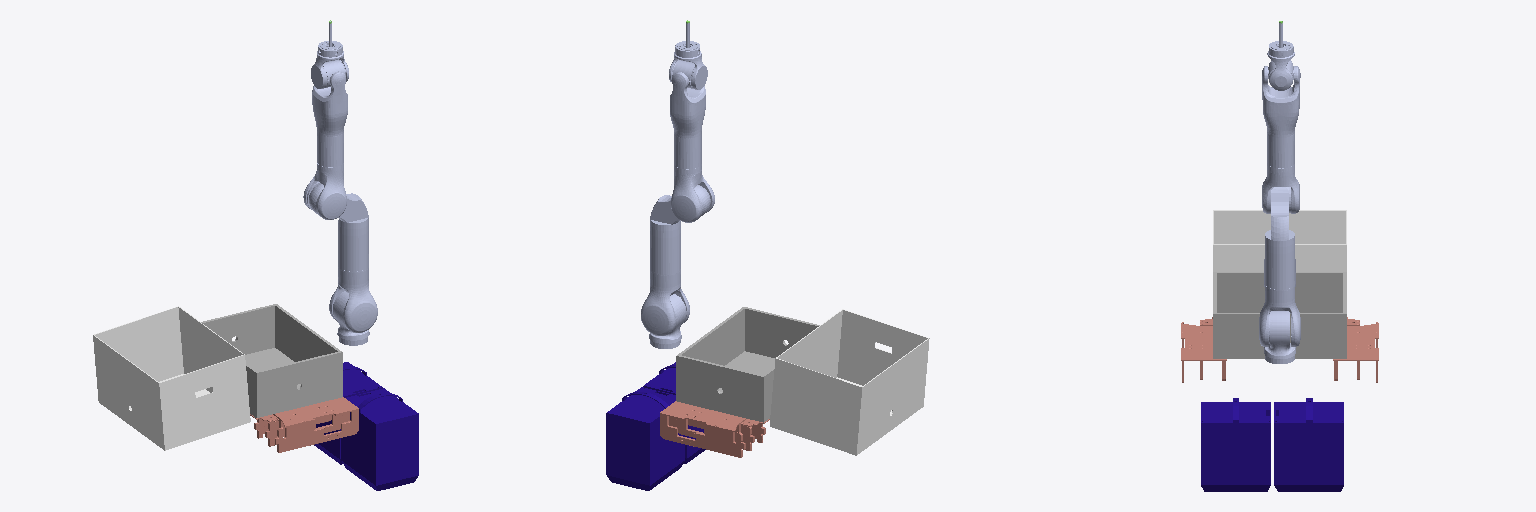
The robot description file, URDF, robot "E1-PRO_EVT2.0_V9_260714":
<?xml version="1.0" encoding="utf-8"?>
<!-- This URDF was automatically created by SolidWorks to URDF Exporter! Originally created by Stephen Brawner (brawner@gmail.com) 
     Commit Version: 1.6.0-4-g7f85cfe  Build Version: 1.6.7995.38578
     For more information, please see http://wiki.ros.org/sw_urdf_exporter -->
<robot
  name="E1-PRO_EVT2.0_V9_260714">
  <link
    name="base_link">
    <inertial>
      <origin
        xyz="-0.078128 -0.030482 0.38808"
        rpy="0 0 0" />
      <mass
        value="32.049" />
      <inertia
        ixx="1.1271"
        ixy="0.0019051"
        ixz="-0.001577"
        iyy="0.63017"
        iyz="0.00040475"
        izz="0.73273" />
    </inertial>
    <visual>
      <origin
        xyz="0 0 0"
        rpy="0 0 0" />
      <geometry>
        <mesh
          filename="package://E1-PRO_EVT2.0_V9_260714/meshes/base_link.STL" />
      </geometry>
      <material
        name="">
        <color
          rgba="0.48627 0.6549 0.55686 1" />
      </material>
    </visual>
    <collision>
      <origin
        xyz="0 0 0"
        rpy="0 0 0" />
      <geometry>
        <mesh
          filename="package://E1-PRO_EVT2.0_V9_260714/meshes/base_link.STL" />
      </geometry>
    </collision>
  </link>
  <link
    name="paltform_link">
    <inertial>
      <origin
        xyz="0.20827 -0.031009 0.27747"
        rpy="0 0 0" />
      <mass
        value="3.8818" />
      <inertia
        ixx="0.044311"
        ixy="-3.0252E-06"
        ixz="0.00025311"
        iyy="0.025099"
        iyz="-1.8932E-07"
        izz="0.066624" />
    </inertial>
    <visual>
      <origin
        xyz="0 0 0"
        rpy="0 0 0" />
      <geometry>
        <mesh
          filename="package://E1-PRO_EVT2.0_V9_260714/meshes/paltform_link.STL" />
      </geometry>
      <material
        name="">
        <color
          rgba="0.81961 0.56863 0.52549 1" />
      </material>
    </visual>
    <collision>
      <origin
        xyz="0 0 0"
        rpy="0 0 0" />
      <geometry>
        <mesh
          filename="package://E1-PRO_EVT2.0_V9_260714/meshes/paltform_link.STL" />
      </geometry>
    </collision>
  </link>
  <joint
    name="platform_joint"
    type="prismatic">
    <origin
      xyz="0 0 0"
      rpy="0 0 0" />
    <parent
      link="base_link" />
    <child
      link="paltform_link" />
    <axis
      xyz="0 0 1" />
    <limit
      lower="-0.1"
      upper="0.5"
      effort="0"
      velocity="0" />
  </joint>
  <link
    name="arm_base_link">
    <inertial>
      <origin
        xyz="-2.4233E-10 8.9488E-05 0.034349"
        rpy="0 0 0" />
      <mass
        value="0.59585" />
      <inertia
        ixx="0.00065407"
        ixy="2.6305E-11"
        ixz="-4.8472E-14"
        iyy="0.00065679"
        iyz="1.7428E-06"
        izz="0.00065081" />
    </inertial>
    <visual>
      <origin
        xyz="0 0 0"
        rpy="0 0 0" />
      <geometry>
        <mesh
          filename="package://E1-PRO_EVT2.0_V9_260714/meshes/arm_base_link.STL" />
      </geometry>
      <material
        name="">
        <color
          rgba="0.79216 0.81961 0.93333 1" />
      </material>
    </visual>
    <collision>
      <origin
        xyz="0 0 0"
        rpy="0 0 0" />
      <geometry>
        <mesh
          filename="package://E1-PRO_EVT2.0_V9_260714/meshes/arm_base_link.STL" />
      </geometry>
    </collision>
  </link>
  <joint
    name="arm_base_joint"
    type="fixed">
    <origin
      xyz="0.51352 -0.031 0.31"
      rpy="0 0 0" />
    <parent
      link="paltform_link" />
    <child
      link="arm_base_link" />
    <axis
      xyz="0 0 0" />
  </joint>
  <link
    name="Link1_L">
    <inertial>
      <origin
        xyz="-1.8545E-06 0.0016783 0.15066"
        rpy="0 0 0" />
      <mass
        value="0.81851" />
      <inertia
        ixx="0.0017226"
        ixy="1.4268E-08"
        ixz="-1.4275E-08"
        iyy="0.0020384"
        iyz="-3.2748E-05"
        izz="0.00088868" />
    </inertial>
    <visual>
      <origin
        xyz="0 0 0"
        rpy="0 0 0" />
      <geometry>
        <mesh
          filename="package://E1-PRO_EVT2.0_V9_260714/meshes/Link1_L.STL" />
      </geometry>
      <material
        name="">
        <color
          rgba="0.79216 0.81961 0.93333 1" />
      </material>
    </visual>
    <collision>
      <origin
        xyz="0 0 0"
        rpy="0 0 0" />
      <geometry>
        <mesh
          filename="package://E1-PRO_EVT2.0_V9_260714/meshes/Link1_L.STL" />
      </geometry>
    </collision>
  </link>
  <joint
    name="Joint1_J"
    type="revolute">
    <origin
      xyz="0 0 0"
      rpy="0 0 0" />
    <parent
      link="arm_base_link" />
    <child
      link="Link1_L" />
    <axis
      xyz="0 0 1" />
    <limit
      lower="-2.9671"
      upper="2.9671"
      effort="0"
      velocity="0" />
  </joint>
  <link
    name="Link2_L">
    <inertial>
      <origin
        xyz="-1.4456E-07 -0.0015137 0.047716"
        rpy="0 0 0" />
      <mass
        value="1.1465" />
      <inertia
        ixx="0.0054128"
        ixy="8.1654E-08"
        ixz="-2.3374E-08"
        iyy="0.0045323"
        iyz="-8.2729E-05"
        izz="0.002352" />
    </inertial>
    <visual>
      <origin
        xyz="0 0 0"
        rpy="0 0 0" />
      <geometry>
        <mesh
          filename="package://E1-PRO_EVT2.0_V9_260714/meshes/Link2_L.STL" />
      </geometry>
      <material
        name="">
        <color
          rgba="0.79216 0.81961 0.93333 1" />
      </material>
    </visual>
    <collision>
      <origin
        xyz="0 0 0"
        rpy="0 0 0" />
      <geometry>
        <mesh
          filename="package://E1-PRO_EVT2.0_V9_260714/meshes/Link2_L.STL" />
      </geometry>
    </collision>
  </link>
  <joint
    name="Joint2_J"
    type="revolute">
    <origin
      xyz="0 0 0.1745"
      rpy="0 0 0" />
    <parent
      link="Link1_L" />
    <child
      link="Link2_L" />
    <axis
      xyz="0 1 0" />
    <limit
      lower="-2.0944"
      upper="2.0944"
      effort="0"
      velocity="0" />
  </joint>
  <link
    name="Link3_L">
    <inertial>
      <origin
        xyz="-0.023535 2.5028E-07 0.1338"
        rpy="0 0 0" />
      <mass
        value="1.859" />
      <inertia
        ixx="0.012962"
        ixy="-4.4589E-08"
        ixz="0.0044136"
        iyy="0.016023"
        iyz="3.9752E-08"
        izz="0.0045949" />
    </inertial>
    <visual>
      <origin
        xyz="0 0 0"
        rpy="0 0 0" />
      <geometry>
        <mesh
          filename="package://E1-PRO_EVT2.0_V9_260714/meshes/Link3_L.STL" />
      </geometry>
      <material
        name="">
        <color
          rgba="0.79216 0.81961 0.93333 1" />
      </material>
    </visual>
    <collision>
      <origin
        xyz="0 0 0"
        rpy="0 0 0" />
      <geometry>
        <mesh
          filename="package://E1-PRO_EVT2.0_V9_260714/meshes/Link3_L.STL" />
      </geometry>
    </collision>
  </link>
  <joint
    name="Joint3_J"
    type="revolute">
    <origin
      xyz="0 0 0.1485"
      rpy="0 0 0" />
    <parent
      link="Link2_L" />
    <child
      link="Link3_L" />
    <axis
      xyz="0 0 1" />
    <limit
      lower="-2.9671"
      upper="2.9671"
      effort="0"
      velocity="0" />
  </joint>
  <link
    name="Link4_L">
    <inertial>
      <origin
        xyz="0.0077613 0.0048207 0.037399"
        rpy="0 0 0" />
      <mass
        value="0.80083" />
      <inertia
        ixx="0.0027058"
        ixy="9.7745E-06"
        ixz="-0.00028207"
        iyy="0.0022185"
        iyz="4.7057E-05"
        izz="0.0014374" />
    </inertial>
    <visual>
      <origin
        xyz="0 0 0"
        rpy="0 0 0" />
      <geometry>
        <mesh
          filename="package://E1-PRO_EVT2.0_V9_260714/meshes/Link4_L.STL" />
      </geometry>
      <material
        name="">
        <color
          rgba="0.79216 0.81961 0.93333 1" />
      </material>
    </visual>
    <collision>
      <origin
        xyz="0 0 0"
        rpy="0 0 0" />
      <geometry>
        <mesh
          filename="package://E1-PRO_EVT2.0_V9_260714/meshes/Link4_L.STL" />
      </geometry>
    </collision>
  </link>
  <joint
    name="Joint4_J"
    type="revolute">
    <origin
      xyz="-0.096769 0 0.23962"
      rpy="0 0 0" />
    <parent
      link="Link3_L" />
    <child
      link="Link4_L" />
    <axis
      xyz="0 1 0" />
    <limit
      lower="-2.6180"
      upper="3.1415"
      effort="0"
      velocity="0" />
  </joint>
  <link
    name="Link5_L">
    <inertial>
      <origin
        xyz="-6.78E-07 3.2217E-05 0.13822"
        rpy="0 0 0" />
      <mass
        value="1.6879" />
      <inertia
        ixx="0.011022"
        ixy="5.6855E-08"
        ixz="-3.3182E-07"
        iyy="0.010501"
        iyz="-8.1575E-06"
        izz="0.0020745" />
    </inertial>
    <visual>
      <origin
        xyz="0 0 0"
        rpy="0 0 0" />
      <geometry>
        <mesh
          filename="package://E1-PRO_EVT2.0_V9_260714/meshes/Link5_L.STL" />
      </geometry>
      <material
        name="">
        <color
          rgba="0.79216 0.81961 0.93333 1" />
      </material>
    </visual>
    <collision>
      <origin
        xyz="0 0 0"
        rpy="0 0 0" />
      <geometry>
        <mesh
          filename="package://E1-PRO_EVT2.0_V9_260714/meshes/Link5_L.STL" />
      </geometry>
    </collision>
  </link>
  <joint
    name="Joint5_J"
    type="revolute">
    <origin
      xyz="0.018 0.00325 0.1215"
      rpy="0 0 0" />
    <parent
      link="Link4_L" />
    <child
      link="Link5_L" />
    <axis
      xyz="0 0 1" />
    <limit
      lower="-2.9671"
      upper="2.9671"
      effort="0"
      velocity="0" />
  </joint>
  <link
    name="Link6_L">
    <inertial>
      <origin
        xyz="0.004049 3.3359E-08 -1.2591E-07"
        rpy="0 0 0" />
      <mass
        value="0.28617" />
      <inertia
        ixx="0.00021745"
        ixy="3.4379E-11"
        ixz="6.5972E-10"
        iyy="0.00018866"
        iyz="3.9715E-10"
        izz="0.00020199" />
    </inertial>
    <visual>
      <origin
        xyz="0 0 0"
        rpy="0 0 0" />
      <geometry>
        <mesh
          filename="package://E1-PRO_EVT2.0_V9_260714/meshes/Link6_L.STL" />
      </geometry>
      <material
        name="">
        <color
          rgba="0.79216 0.81961 0.93333 1" />
      </material>
    </visual>
    <collision>
      <origin
        xyz="0 0 0"
        rpy="0 0 0" />
      <geometry>
        <mesh
          filename="package://E1-PRO_EVT2.0_V9_260714/meshes/Link6_L.STL" />
      </geometry>
    </collision>
  </link>
  <joint
    name="Joint6_J"
    type="revolute">
    <origin
      xyz="0 0 0.2925"
      rpy="0 0 0" />
    <parent
      link="Link5_L" />
    <child
      link="Link6_L" />
    <axis
      xyz="0 1 0" />
    <limit
      lower="-1.0472"
      upper="1.0472"
      effort="0"
      velocity="0" />
  </joint>
  <link
    name="Link7_L">
    <inertial>
      <origin
        xyz="-0.0031171 7.5484E-05 0.040026"
        rpy="0 0 0" />
      <mass
        value="0.33604" />
      <inertia
        ixx="0.00068247"
        ixy="-6.7262E-08"
        ixz="-4.078E-05"
        iyy="0.00089842"
        iyz="-1.0527E-06"
        izz="0.0004406" />
    </inertial>
    <visual>
      <origin
        xyz="0 0 0"
        rpy="0 0 0" />
      <geometry>
        <mesh
          filename="package://E1-PRO_EVT2.0_V9_260714/meshes/Link7_L.STL" />
      </geometry>
      <material
        name="">
        <color
          rgba="0.79216 0.81961 0.93333 1" />
      </material>
    </visual>
    <collision>
      <origin
        xyz="0 0 0"
        rpy="0 0 0" />
      <geometry>
        <mesh
          filename="package://E1-PRO_EVT2.0_V9_260714/meshes/Link7_L.STL" />
      </geometry>
    </collision>
  </link>
  <joint
    name="Joint7_J"
    type="revolute">
    <origin
      xyz="0 0 0"
      rpy="0 0 0" />
    <parent
      link="Link6_L" />
    <child
      link="Link7_L" />
    <axis
      xyz="1 0 0" />
    <limit
      lower="-1.570796"
      upper="1.570796"
      effort="0"
      velocity="0" />
  </joint>
  <link
    name="zhijian_link">
    <inertial>
      <origin
        xyz="-1.1102E-16 -2.7756E-17 0.00064558"
        rpy="0 0 0" />
      <mass
        value="0.00036655" />
      <inertia
        ixx="3.9905E-09"
        ixy="1.0681E-24"
        ixz="2.9337E-25"
        iyy="3.9905E-09"
        iyz="-6.4703E-25"
        izz="6.4361E-09" />
    </inertial>
    <visual>
      <origin
        xyz="0 0 0"
        rpy="0 0 0" />
      <geometry>
        <mesh
          filename="package://E1-PRO_EVT2.0_V9_260714/meshes/zhijian_link.STL" />
      </geometry>
      <material
        name="">
        <color
          rgba="0.61569 0.94118 0.49412 1" />
      </material>
    </visual>
    <collision>
      <origin
        xyz="0 0 0"
        rpy="0 0 0" />
      <geometry>
        <mesh
          filename="package://E1-PRO_EVT2.0_V9_260714/meshes/zhijian_link.STL" />
      </geometry>
    </collision>
  </link>
  <joint
    name="zhijian_joint"
    type="fixed">
    <origin
      xyz="0 0 0.17167"
      rpy="0 0 0" />
    <parent
      link="Link7_L" />
    <child
      link="zhijian_link" />
    <axis
      xyz="0 0 0" />
  </joint>
  <link
    name="box01_link">
    <inertial>
      <origin
        xyz="0.066347 2.1039E-14 0.050967"
        rpy="0 0 0" />
      <mass
        value="24.317" />
      <inertia
        ixx="0.532"
        ixy="-1.6722E-17"
        ixz="2.0561E-17"
        iyy="0.35276"
        iyz="-1.8561E-16"
        izz="0.77081" />
    </inertial>
    <visual>
      <origin
        xyz="0 0 0"
        rpy="0 0 0" />
      <geometry>
        <mesh
          filename="package://E1-PRO_EVT2.0_V9_260714/meshes/box01_link.STL" />
      </geometry>
      <material
        name="">
        <color
          rgba="0.75294 0.75294 0.75294 1" />
      </material>
    </visual>
    <collision>
      <origin
        xyz="0 0 0"
        rpy="0 0 0" />
      <geometry>
        <mesh
          filename="package://E1-PRO_EVT2.0_V9_260714/meshes/box01_link.STL" />
      </geometry>
    </collision>
  </link>
  <joint
    name="box01_joint"
    type="prismatic">
    <origin
      xyz="0.14402 -0.031 0.31"
      rpy="0 0 0" />
    <parent
      link="paltform_link" />
    <child
      link="box01_link" />
    <axis
      xyz="0 1 0" />
    <limit
      lower="-0.9"
      upper="0.9"
      effort="0"
      velocity="0" />
  </joint>
  <link
    name="left_dianchi_link">
    <inertial>
      <origin
        xyz="1.1315E-09 0.00062273 -0.14093"
        rpy="0 0 0" />
      <mass
        value="55.685" />
      <inertia
        ixx="0.4411"
        ixy="1.3E-11"
        ixz="2.359E-10"
        iyy="0.34283"
        iyz="0.0020666"
        izz="0.30662" />
    </inertial>
    <visual>
      <origin
        xyz="0 0 0"
        rpy="0 0 0" />
      <geometry>
        <mesh
          filename="package://E1-PRO_EVT2.0_V9_260714/meshes/left_dianchi_link.STL" />
      </geometry>
      <material
        name="">
        <color
          rgba="0.2 0.10196 0.62353 1" />
      </material>
    </visual>
    <collision>
      <origin
        xyz="0 0 0"
        rpy="0 0 0" />
      <geometry>
        <mesh
          filename="package://E1-PRO_EVT2.0_V9_260714/meshes/left_dianchi_link.STL" />
      </geometry>
    </collision>
  </link>
  <joint
    name="left_dainchi_joint"
    type="prismatic">
    <origin
      xyz="0.52987 0.057 0.24116"
      rpy="0 0 0" />
    <parent
      link="base_link" />
    <child
      link="left_dianchi_link" />
    <axis
      xyz="0 0 1" />
    <limit
      lower="0"
      upper="0.5"
      effort="0"
      velocity="0" />
  </joint>
  <link
    name="right_dianchi_link">
    <inertial>
      <origin
        xyz="1.2007E-09 -0.22062 -0.14093"
        rpy="0 0 0" />
      <mass
        value="55.685" />
      <inertia
        ixx="0.4411"
        ixy="1.3E-11"
        ixz="-2.359E-10"
        iyy="0.34283"
        iyz="-0.0020666"
        izz="0.30662" />
    </inertial>
    <visual>
      <origin
        xyz="0 0 0"
        rpy="0 0 0" />
      <geometry>
        <mesh
          filename="package://E1-PRO_EVT2.0_V9_260714/meshes/right_dianchi_link.STL" />
      </geometry>
      <material
        name="">
        <color
          rgba="0.2 0.10196 0.62353 1" />
      </material>
    </visual>
    <collision>
      <origin
        xyz="0 0 0"
        rpy="0 0 0" />
      <geometry>
        <mesh
          filename="package://E1-PRO_EVT2.0_V9_260714/meshes/right_dianchi_link.STL" />
      </geometry>
    </collision>
  </link>
  <joint
    name="right_dianchi_joint"
    type="prismatic">
    <origin
      xyz="0.52987 0.057 0.24116"
      rpy="0 0 0" />
    <parent
      link="base_link" />
    <child
      link="right_dianchi_link" />
    <axis
      xyz="0 0 1" />
    <limit
      lower="0"
      upper="0.5"
      effort="0"
      velocity="0" />
  </joint>
  <link
    name="boxs02_link">
    <inertial>
      <origin
        xyz="0 0 0"
        rpy="0 0 0" />
      <mass
        value="0" />
      <inertia
        ixx="0"
        ixy="0"
        ixz="0"
        iyy="0"
        iyz="0"
        izz="0" />
    </inertial>
    <visual>
      <origin
        xyz="0 0 0"
        rpy="0 0 0" />
      <geometry>
        <mesh
          filename="package://E1-PRO_EVT2.0_V9_260714/meshes/boxs02_link.STL" />
      </geometry>
      <material
        name="">
        <color
          rgba="1 1 1 1" />
      </material>
    </visual>
    <collision>
      <origin
        xyz="0 0 0"
        rpy="0 0 0" />
      <geometry>
        <mesh
          filename="package://E1-PRO_EVT2.0_V9_260714/meshes/boxs02_link.STL" />
      </geometry>
    </collision>
  </link>
  <joint
    name="boxs02_joint"
    type="prismatic">
    <origin
      xyz="0.034965 -0.031 0.36351"
      rpy="0 0 0" />
    <parent
      link="base_link" />
    <child
      link="boxs02_link" />
    <axis
      xyz="0.99619 0 0.087156" />
    <limit
      lower="0"
      upper="0.8"
      effort="-0.5"
      velocity="0" />
  </joint>
</robot>

--- Facts derived from the render (not from the file) ---
The picture shows the robot from 3 angles, left to right: view 1: azimuth 30°, elevation 25°; view 2: azimuth 150°, elevation 25°; view 3: azimuth 270°, elevation 25°; orthographic projection.
Model E1-PRO_EVT2.0_V9_260714 with 15 links and 14 joints (7 revolute, 5 prismatic, 2 fixed), rooted at base_link, posed every joint at zero.
Links seen in each view (by area): view 1: boxs02_link, box01_link, right_dianchi_link, paltform_link, Link5_L, Link3_L, Link2_L, Link4_L, left_dianchi_link, Link7_L, Link1_L; view 2: boxs02_link, box01_link, left_dianchi_link, paltform_link, Link5_L, Link3_L, Link2_L, Link4_L, Link7_L, right_dianchi_link, Link1_L; view 3: box01_link, boxs02_link, left_dianchi_link, right_dianchi_link, paltform_link, Link5_L, Link3_L, Link2_L, Link1_L, Link4_L, Link7_L.
Link boxes in pixels (x1,y1,x2,y2): boxs02_link: (93, 306, 250, 450); box01_link: (201, 304, 342, 417); right_dianchi_link: (341, 388, 418, 490); paltform_link: (250, 397, 358, 452); Link5_L: (312, 71, 347, 166); Link3_L: (309, 184, 368, 271); Link2_L: (329, 267, 377, 332); Link4_L: (303, 163, 346, 219); left_dianchi_link: (314, 362, 382, 464); Link7_L: (311, 21, 348, 88); Link1_L: (333, 291, 369, 345); boxs02_link: (770, 309, 929, 455); box01_link: (676, 307, 819, 422); left_dianchi_link: (606, 387, 684, 490); paltform_link: (660, 401, 769, 457); Link5_L: (670, 72, 705, 168); Link3_L: (650, 185, 710, 273); Link2_L: (641, 269, 689, 335); Link4_L: (671, 164, 714, 222); Link7_L: (669, 23, 707, 89); right_dianchi_link: (643, 362, 705, 463); Link1_L: (649, 294, 686, 348); box01_link: (1213, 272, 1346, 358); boxs02_link: (1213, 210, 1346, 271); left_dianchi_link: (1274, 398, 1343, 491); right_dianchi_link: (1201, 398, 1270, 491); paltform_link: (1181, 317, 1378, 382); Link5_L: (1262, 66, 1300, 168); Link3_L: (1264, 187, 1295, 289); Link2_L: (1259, 284, 1300, 346); Link1_L: (1264, 311, 1295, 363); Link4_L: (1262, 163, 1299, 213); Link7_L: (1267, 23, 1294, 90).
Size in the robot's own frame: 0.8834 by 0.59 by 1.48 metres.
Meshes: 15 distinct files referenced, 13 mesh visuals loaded (13 binary STL); not drawn: 2 (reference not matched to a file when rendering).
